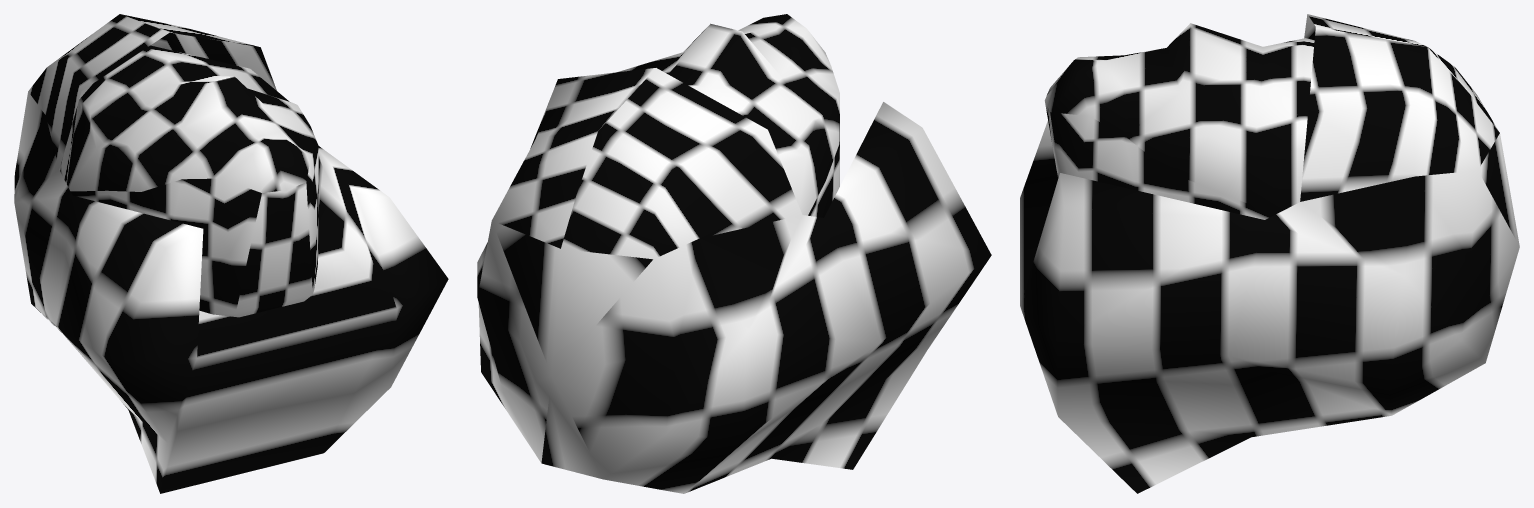
File: infaunhufeme2.dae
3 renders of one model, left to right at view 1: azimuth 30°, elevation 25°; view 2: azimuth 150°, elevation 25°; view 3: azimuth 270°, elevation 25°, orthographic. The views are drawn at different scales.
Parts seen in each view (by area): view 1: face; view 2: face; view 3: face.
Boxes of the visible parts, x1=… form: face: x1=14, y1=14, x2=448, y2=493; face: x1=477, y1=14, x2=991, y2=493; face: x1=1020, y1=14, x2=1519, y2=493.
Bounding box in the file's own units: 1.39 × 1.6 × 1.51.
1 material, 1 textured.
